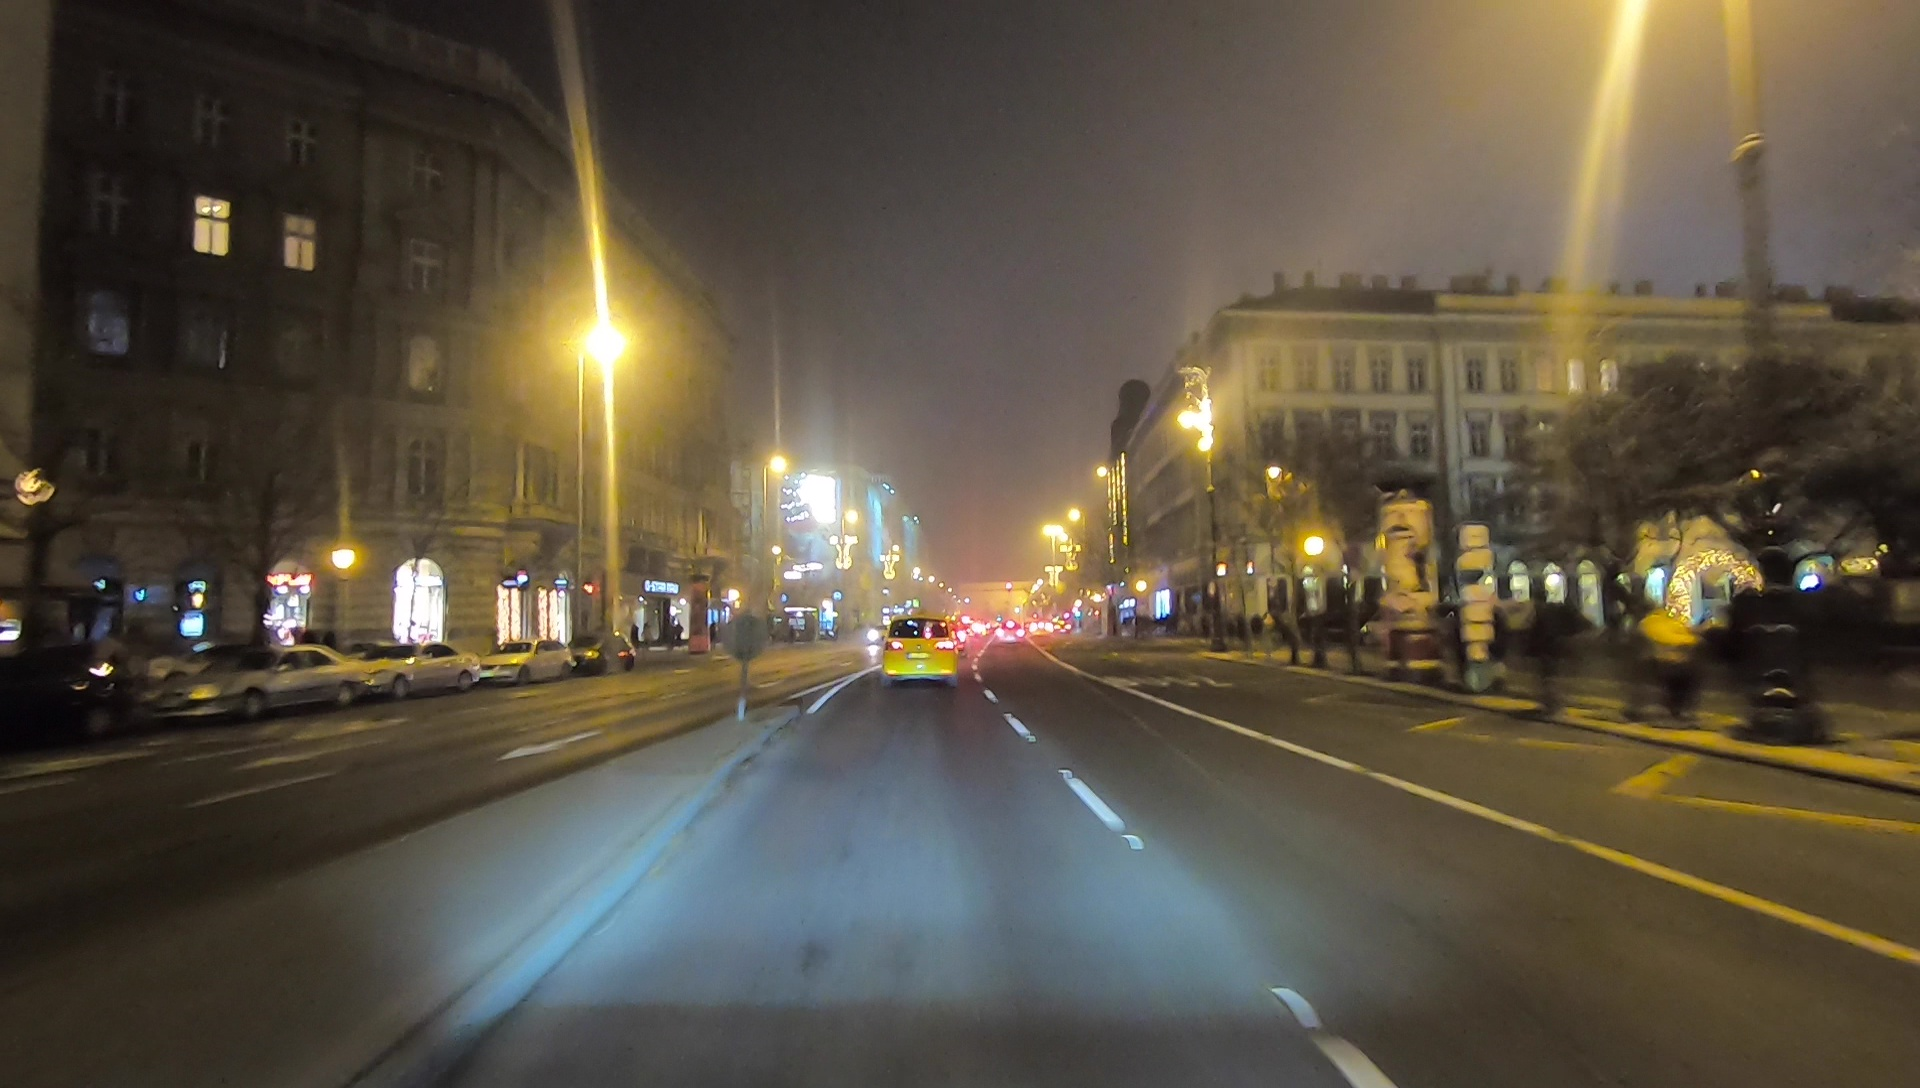person: (1528, 589, 1582, 726), (1644, 593, 1697, 728)
